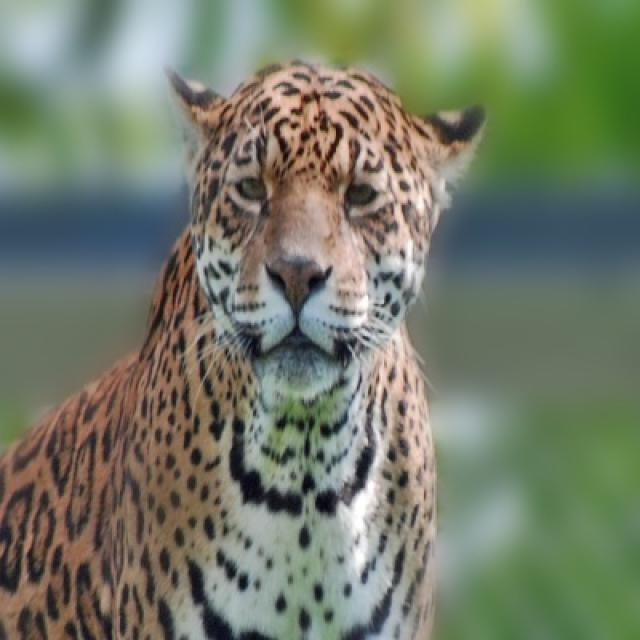Jaguar: (0, 59, 488, 638)
